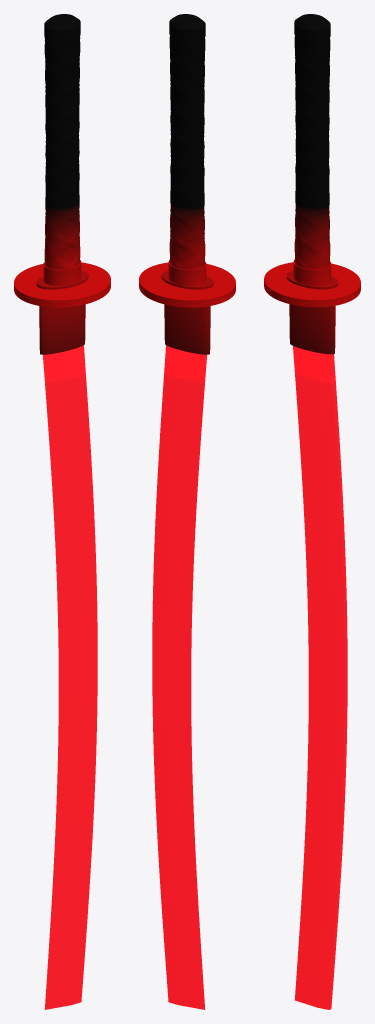
The model's file is katana_hero.glb.
3 views of the same model, side by side, from view 1: azimuth 30°, elevation 25°; view 2: azimuth 150°, elevation 25°; view 3: azimuth 330°, elevation 25° (orthographic).
Parts seen in each view (by area): view 1: katana_hero_LOD0; view 2: katana_hero_LOD0; view 3: katana_hero_LOD0.
Part boxes in pixels (x1=…): katana_hero_LOD0: x1=14, y1=14, x2=110, y2=1009; katana_hero_LOD0: x1=139, y1=14, x2=235, y2=1009; katana_hero_LOD0: x1=264, y1=14, x2=360, y2=1009.
Size of what is drawn, in the model's own units: 1.26 by 13.82 by 1.14.
